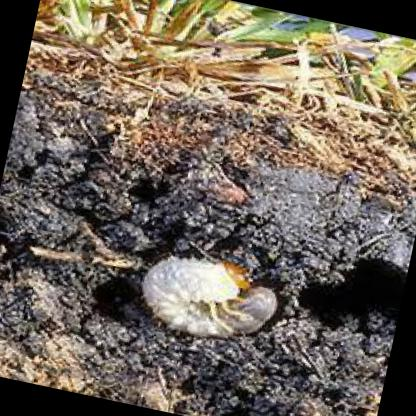root grubs: (146, 259, 280, 339)
